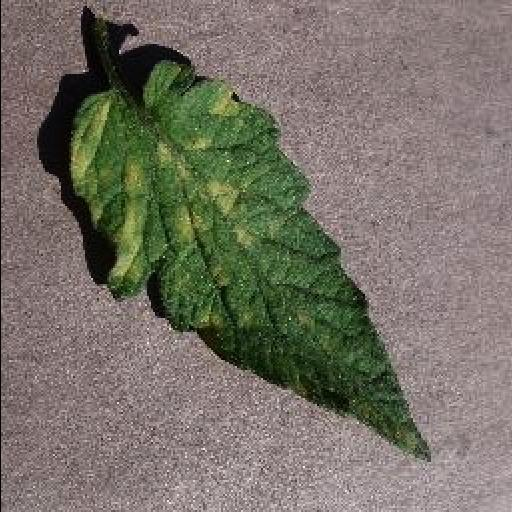disease_tomato: (69, 62, 431, 464)
